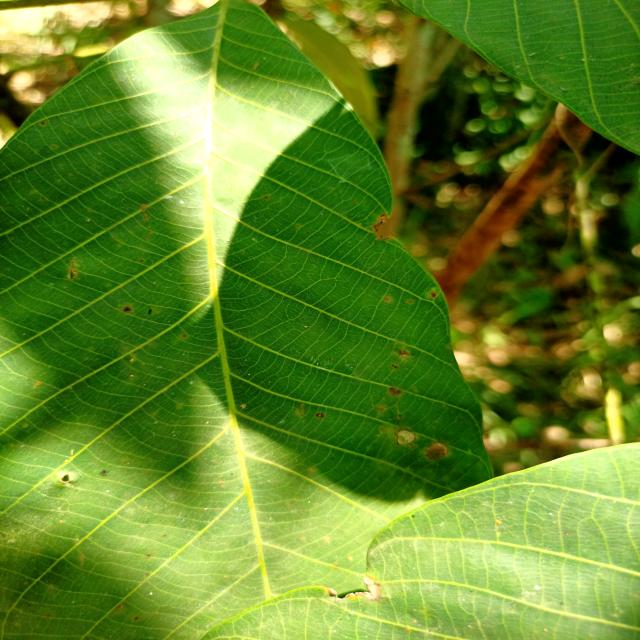Colletotrichum: (315, 412, 325, 418)
Leaf-Blight: (363, 575, 380, 601)
